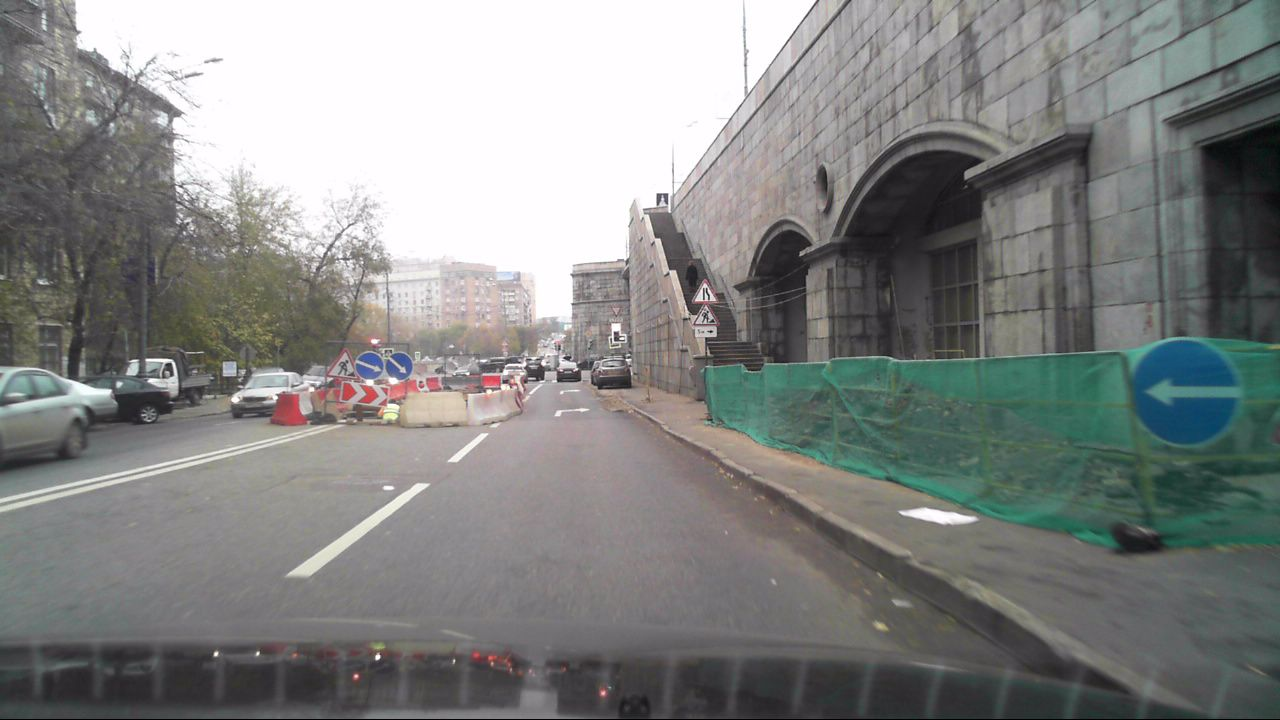Turn Left: (1133, 340, 1237, 448)
